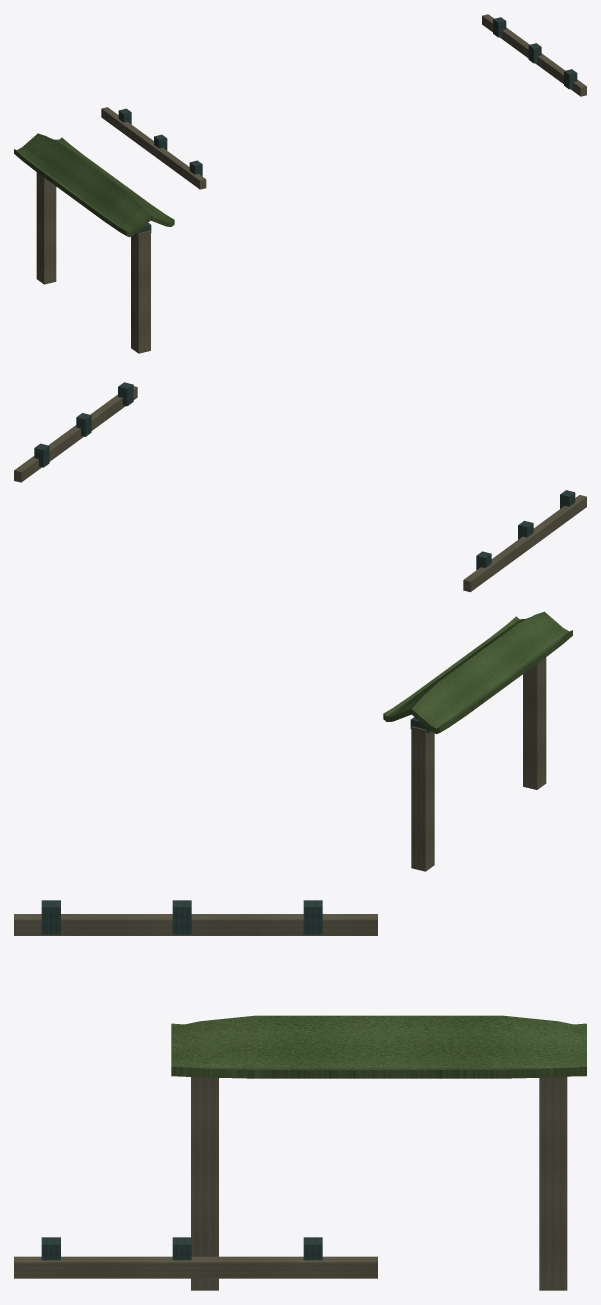
3 views of the same model, one above another, from view 1: azimuth 30°, elevation 25°; view 2: azimuth 150°, elevation 25°; view 3: azimuth 270°, elevation 25° (orthographic). The views are drawn at different scales.
Parts seen in each view (by area): view 1: garrison_part_0001, garrison_part_0000, garrison_part_0002; view 2: garrison_part_0001, garrison_part_0000, garrison_part_0002; view 3: garrison_part_0001, garrison_part_0002, garrison_part_0000.
Part boxes in pixels (left/top/right/bottom): garrison_part_0001: left=14, top=133, right=174, bottom=237; garrison_part_0000: left=36, top=172, right=150, bottom=353; garrison_part_0002: left=101, top=14, right=586, bottom=189; garrison_part_0001: left=383, top=611, right=572, bottom=734; garrison_part_0000: left=411, top=657, right=546, bottom=871; garrison_part_0002: left=14, top=382, right=586, bottom=592; garrison_part_0001: left=171, top=1015, right=586, bottom=1078; garrison_part_0002: left=14, top=900, right=377, bottom=1278; garrison_part_0000: left=191, top=1076, right=567, bottom=1290.
Bounding box in the file's own units: 1481 × 723 × 954.
